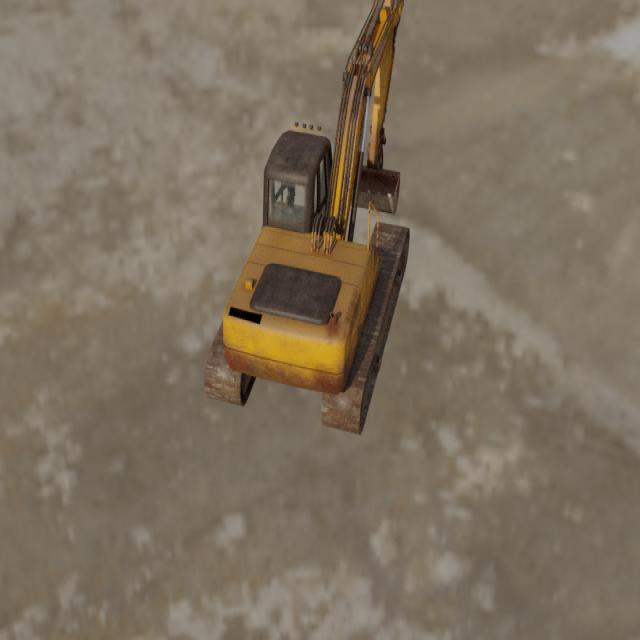excavator: (203, 0, 410, 436)
